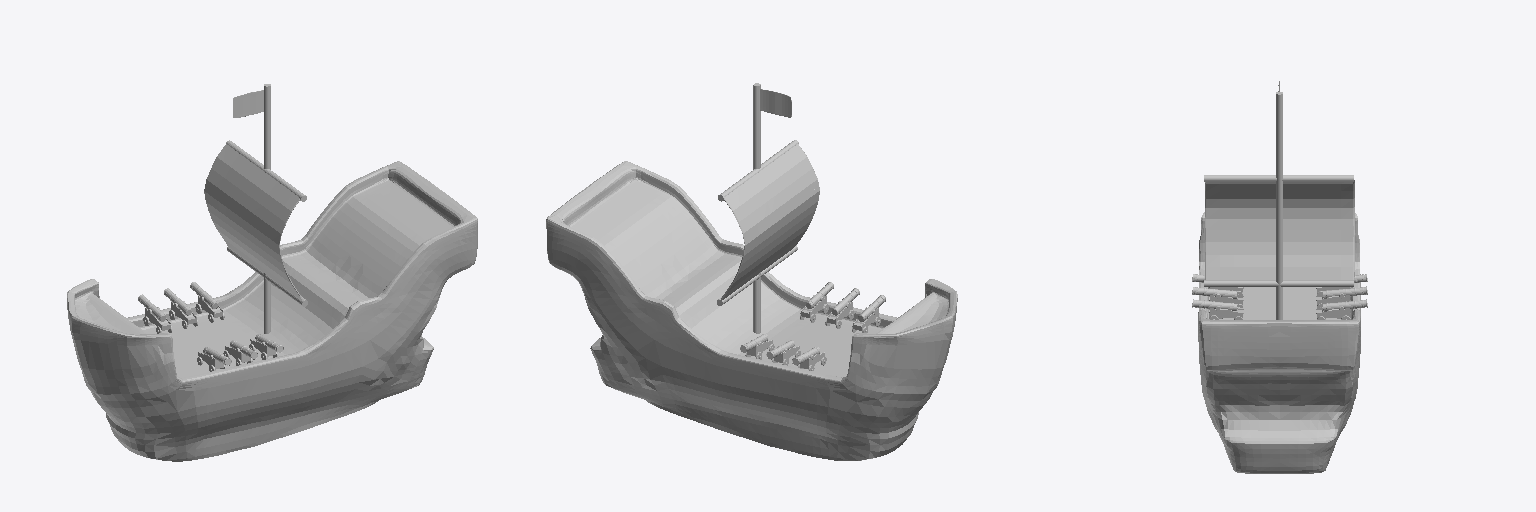
File: ghost pirate ship upgrade2.obj
The picture shows the model from 3 angles: view 1: azimuth 30°, elevation 25°; view 2: azimuth 150°, elevation 25°; view 3: azimuth 270°, elevation 25°; orthographic projection.
Visible parts, largest first — view 1: pCube1, pPlane2, pCylinder1, pPlane3, pCylinder2, pCylinder3; view 2: pCube1, pPlane2, pCylinder1, pPlane3, pCylinder2; view 3: pCube1, pPlane2, pCylinder1, pCylinder2, pCylinder3.
Part boxes in pixels (x1,y1,x2,y2): pCube1: (67,161,477,461); pPlane2: (204,144,303,299); pCylinder1: (138,84,283,365); pPlane3: (233,90,263,117); pCylinder2: (148,140,306,359); pCylinder3: (143,247,307,368); pCube1: (546,161,957,460); pPlane2: (721,144,819,300); pCylinder1: (740,83,885,365); pPlane3: (760,89,791,117); pCylinder2: (718,140,875,359); pCube1: (1198,212,1360,473); pPlane2: (1205,180,1354,279); pCylinder1: (1192,92,1367,319); pCylinder2: (1204,175,1353,310); pCylinder3: (1204,280,1353,319).
Size of the model in its own units: 13.31 by 11.6 by 5.48.